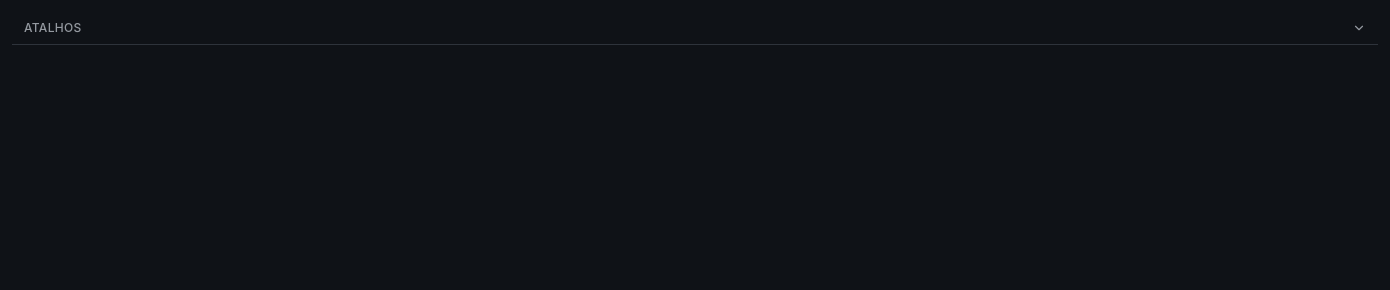
Scenario: KeyboardShortcutsPanel › clicar numa tecla comeca a captura
Click the button "Atalhos" at point(53, 28), box 12,12 -> 1378,44
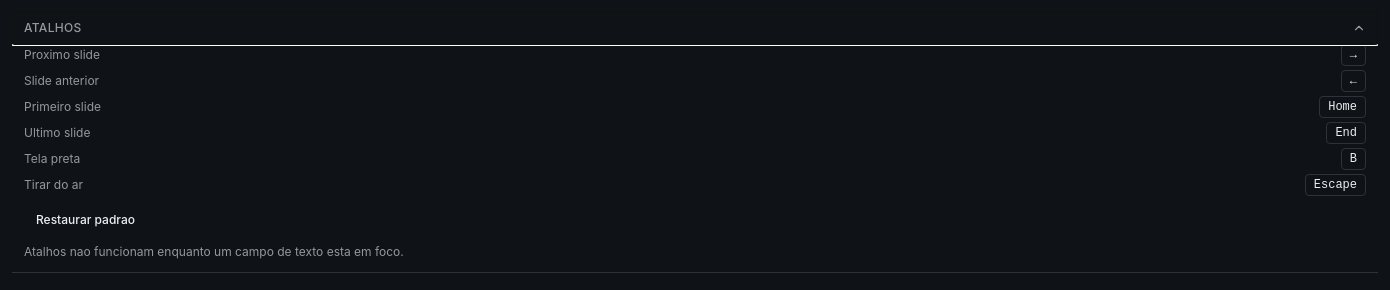
Click the button "B" at point(1353, 159), box 1341,148 -> 1366,170
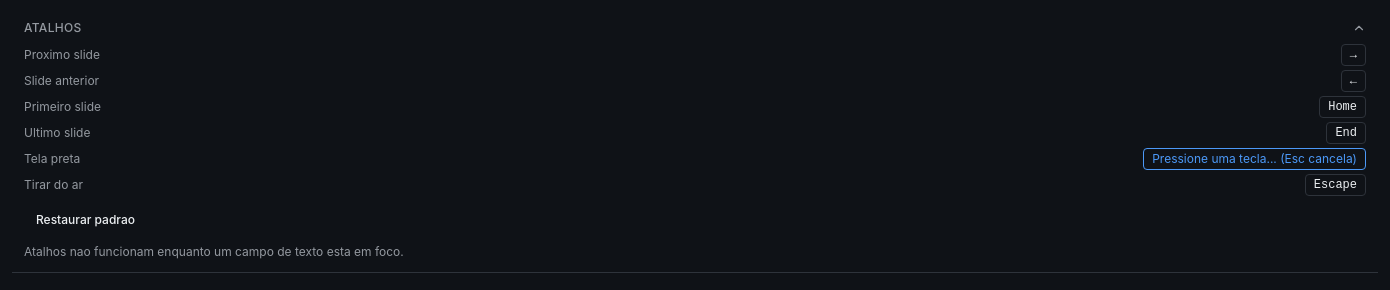
Expected: the text "Pressione uma tecla... (Esc cancela)" is shown, 1143,148 -> 1366,170
